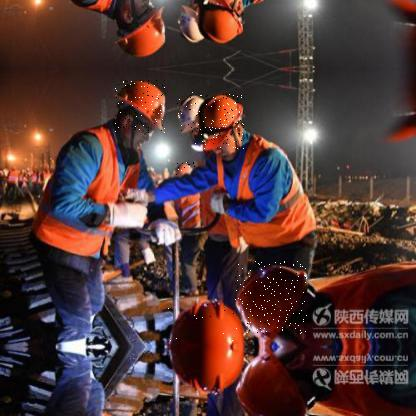safetyhelmet: (235, 262, 308, 336), (168, 303, 247, 345), (193, 94, 245, 150), (115, 80, 166, 134), (177, 92, 206, 134), (175, 162, 196, 178)
